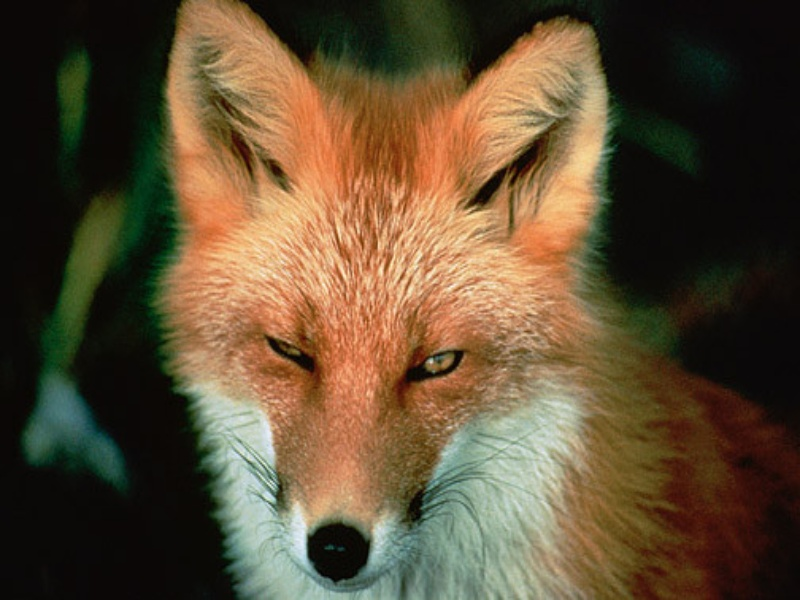fox: (158, 11, 633, 580)
